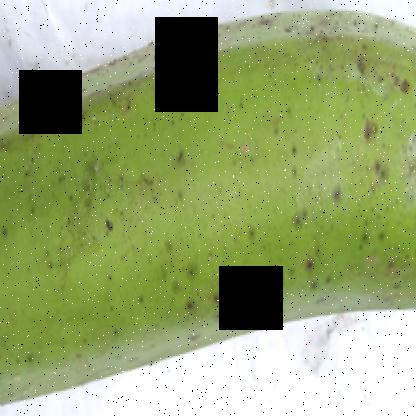unripe: (1, 0, 415, 408)
